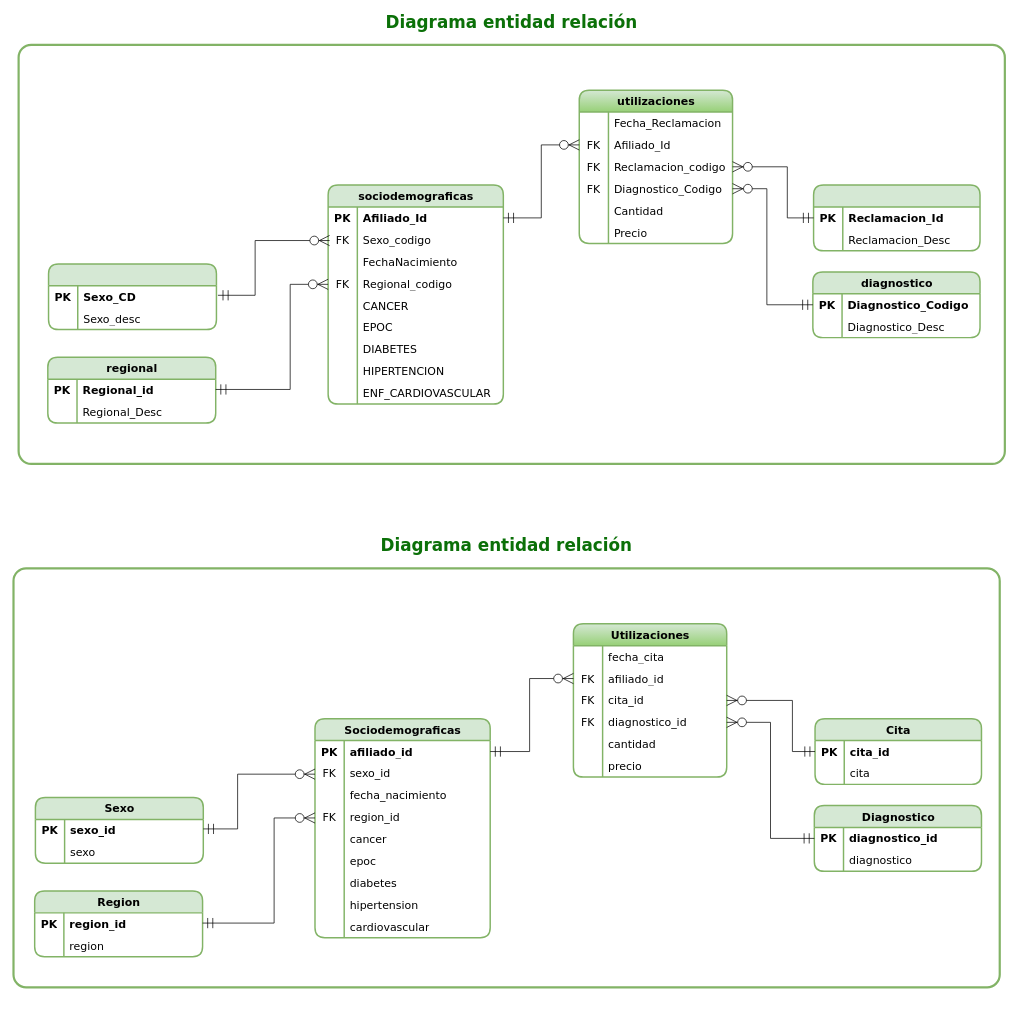
Image size: 1018x1031. Some labels were removed from this diagram. The box of each missing label's shape, as (x1, y1, x2, y2) in pixels:
genero: (47, 263, 217, 330)
reclamaciones: (812, 184, 980, 251)
